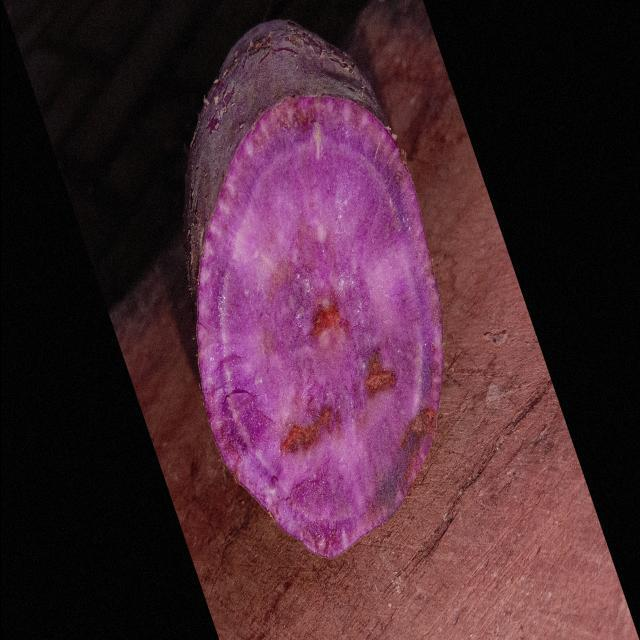Sick Sweet Potato_Tuber Rot: (196, 98, 442, 556)
